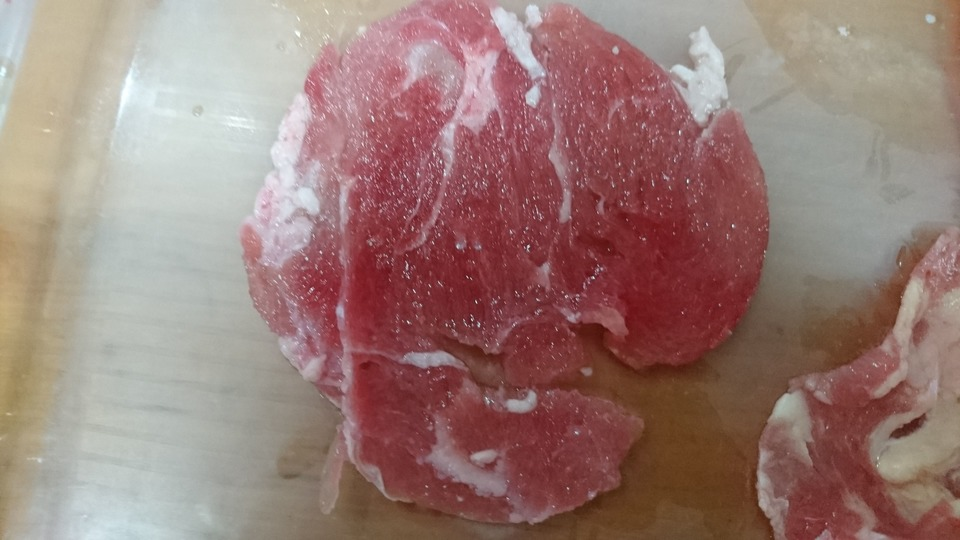restructured meat: (247, 23, 761, 503), (771, 212, 957, 540)
